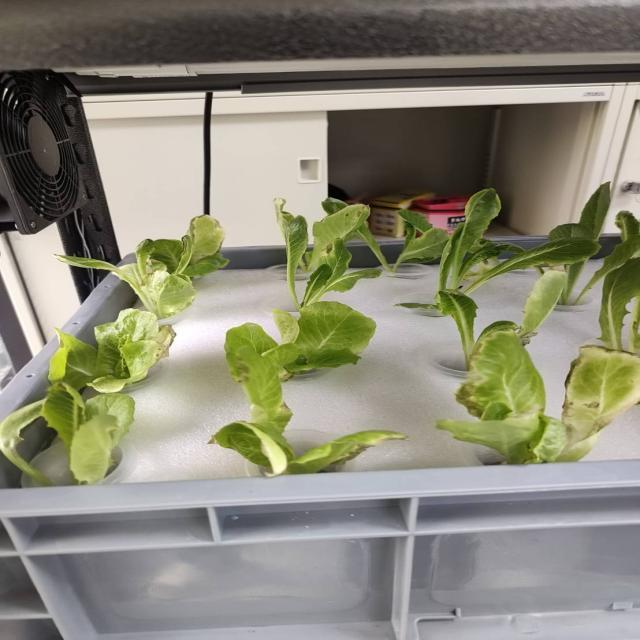Lettuce-Not-Ready-to-Harvest: (437, 331, 640, 464), (210, 348, 405, 475), (438, 189, 600, 295), (0, 381, 135, 486), (437, 270, 568, 368), (225, 301, 377, 382), (273, 199, 380, 310), (58, 240, 197, 319), (48, 309, 175, 392), (577, 211, 640, 302), (357, 210, 448, 272), (150, 215, 228, 279), (598, 258, 640, 354), (548, 182, 610, 242), (560, 261, 584, 304)
